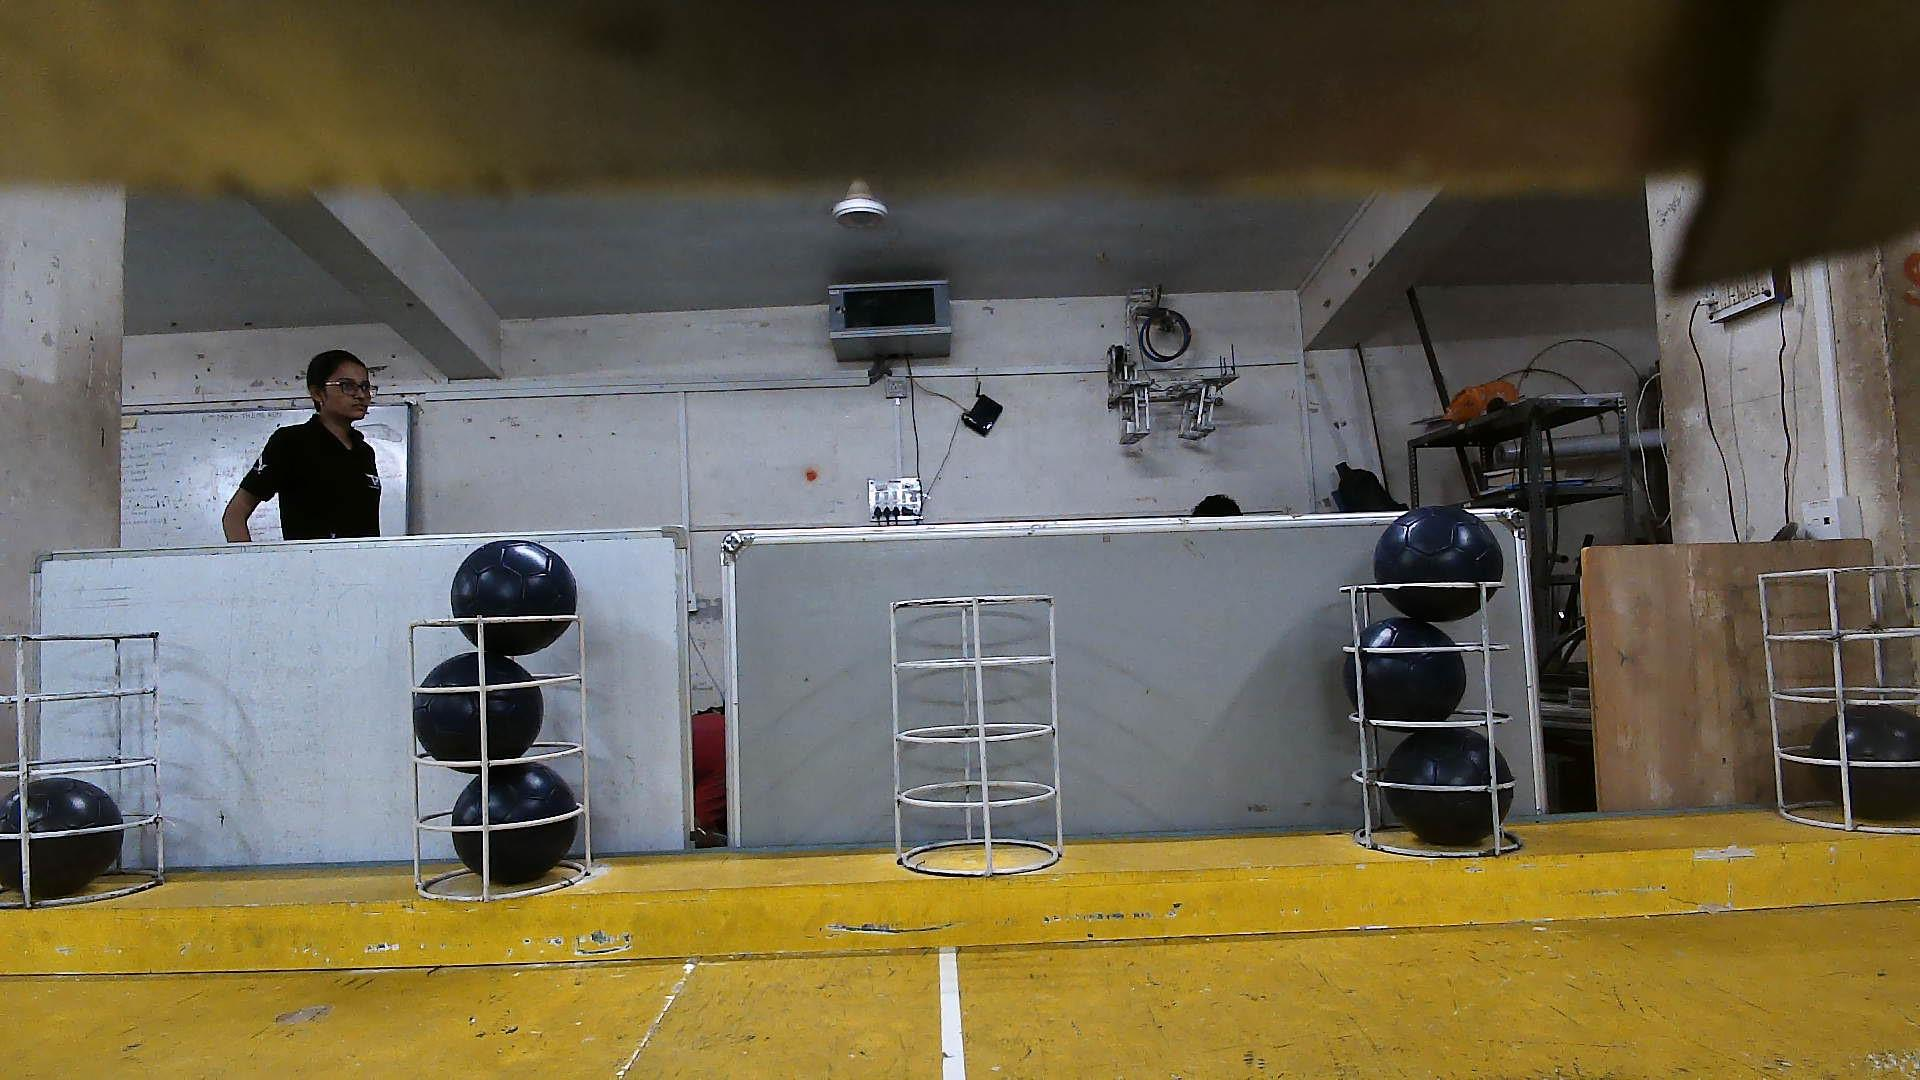dhoka: (1373, 504, 1505, 622), (452, 761, 578, 885), (413, 655, 542, 774), (1385, 728, 1516, 844), (0, 778, 127, 897), (1342, 617, 1466, 732), (451, 541, 575, 653), (1813, 708, 1920, 819)
